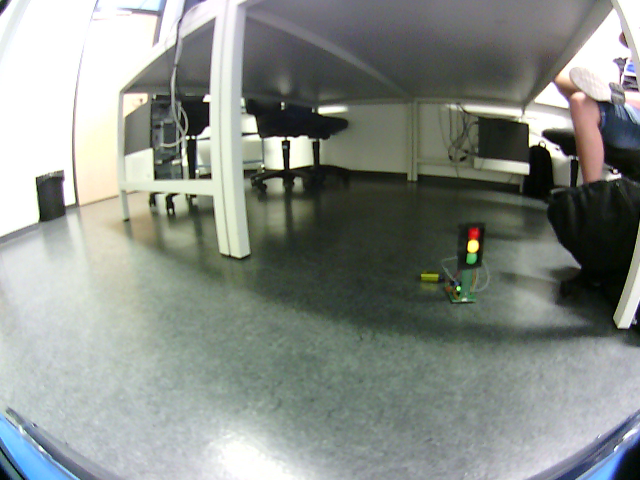yellow trafficlight: (465, 226, 480, 268)
